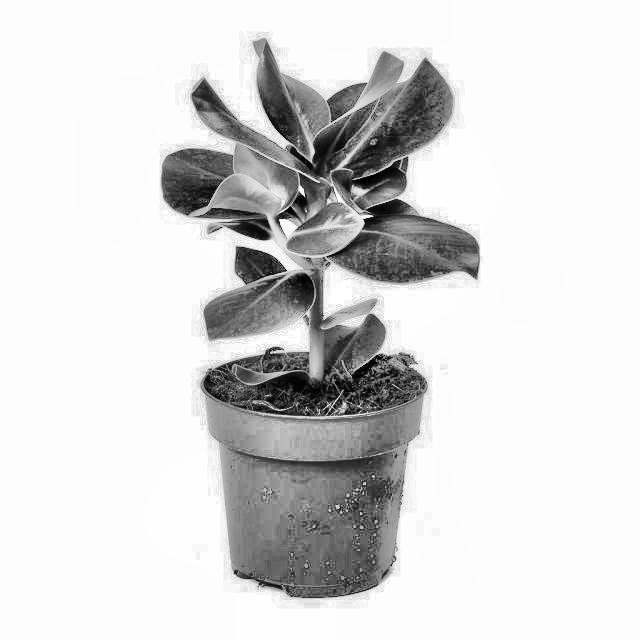plants: (103, 28, 483, 390)
